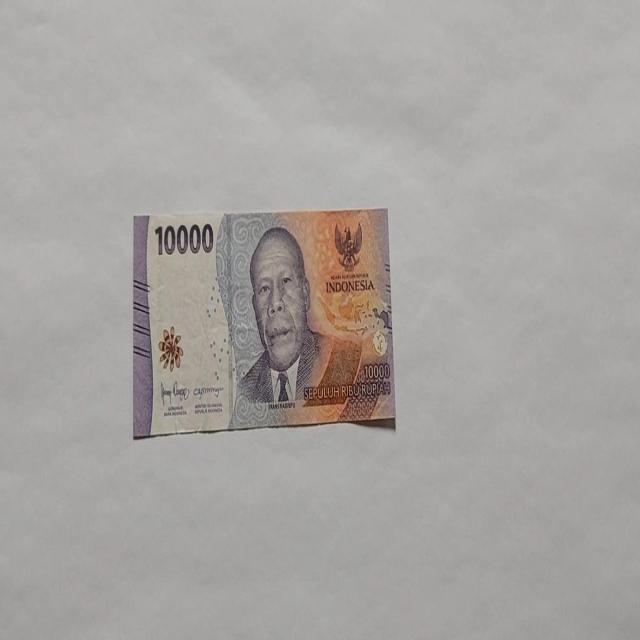Kertas: (132, 206, 396, 439), (153, 219, 214, 257)
